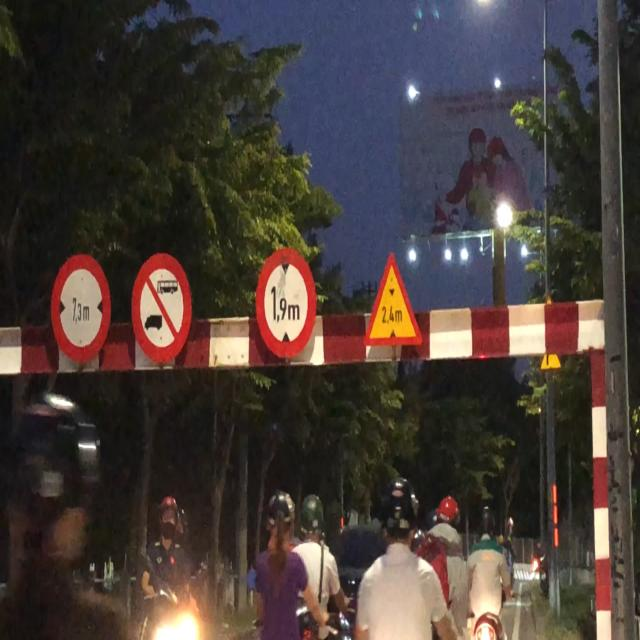Bien bao cam xe oto khach va xe oto tai: (128, 251, 196, 374)
Bien bao chieu cao tinh khong thuc te: (358, 242, 424, 353)
Bien bao han che chieu cao: (253, 238, 320, 368)
